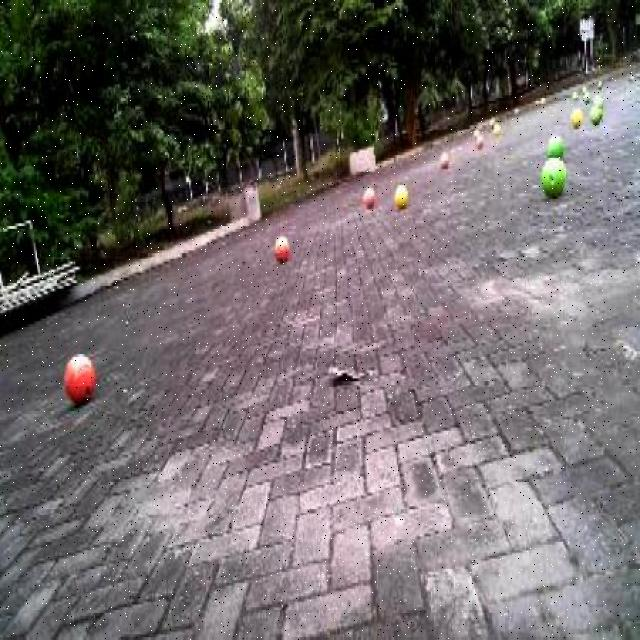buoy: (57, 339, 102, 415), (534, 144, 574, 207), (382, 168, 417, 227), (266, 218, 296, 276), (541, 124, 570, 165), (356, 170, 382, 214), (431, 140, 452, 176)
